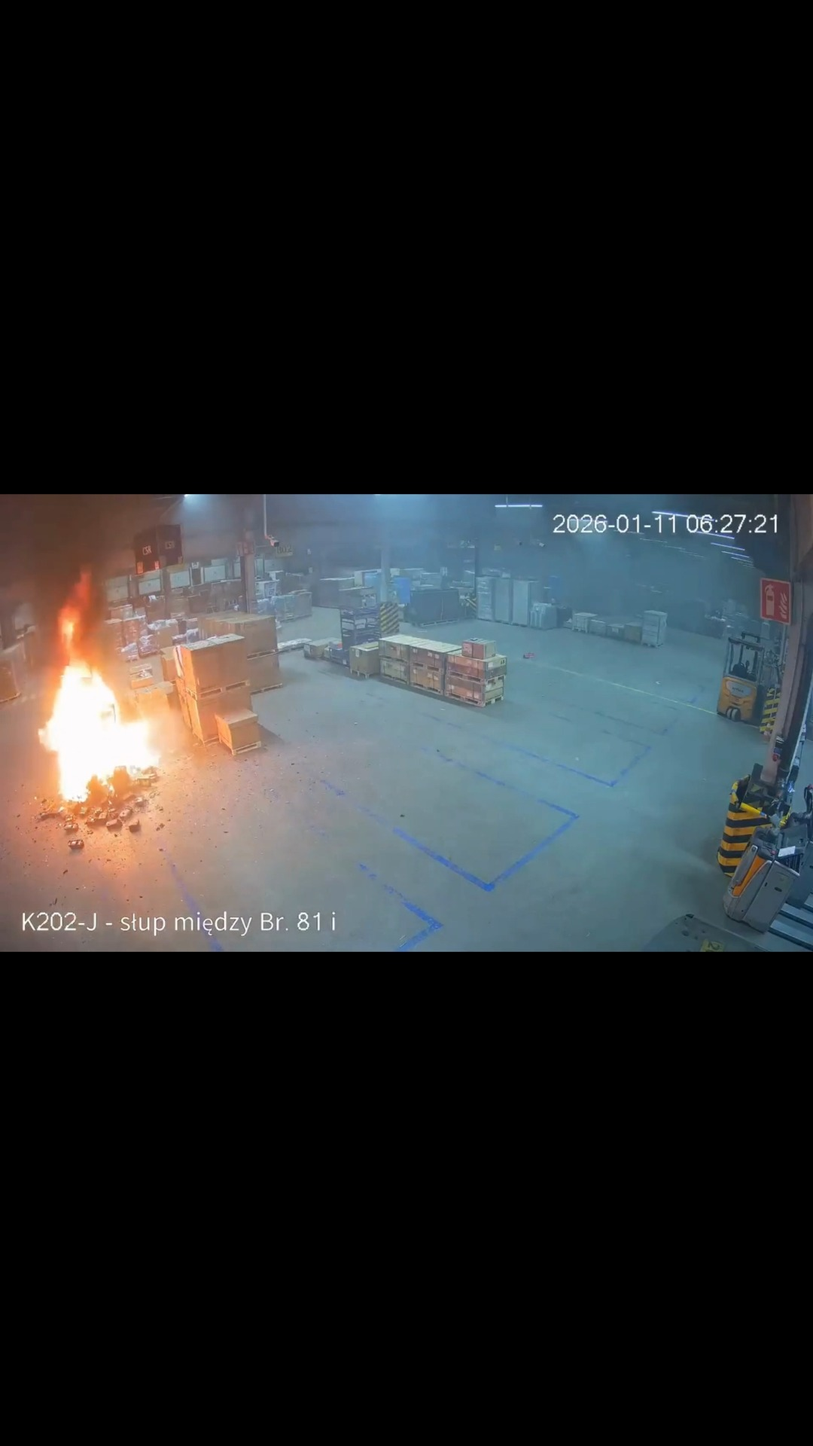fire: (36, 566, 169, 807)
smoke: (1, 496, 172, 669)
